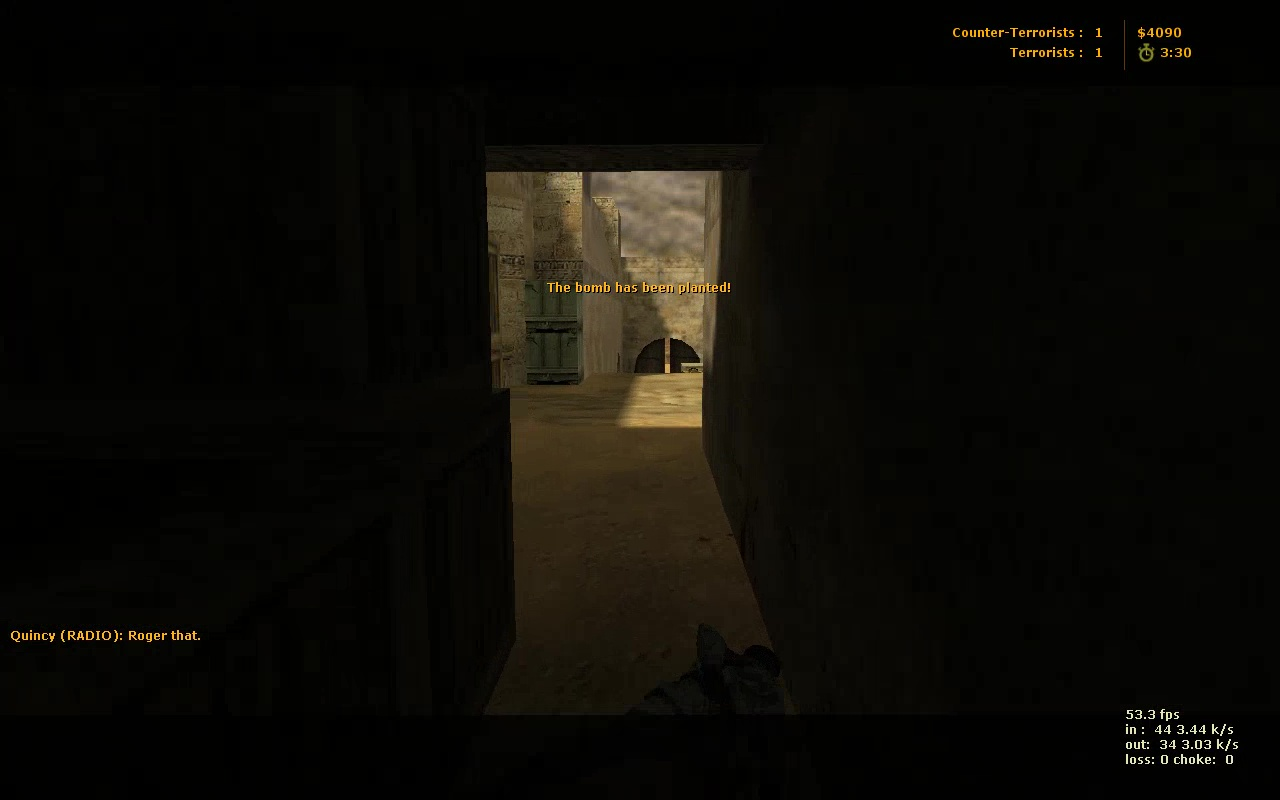dead: (616, 621, 798, 715)
